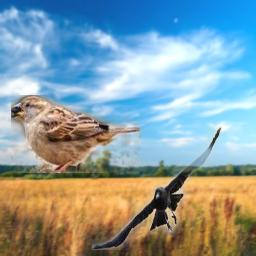Crow: (92, 126, 222, 250)
Sparrow: (11, 95, 141, 173)
